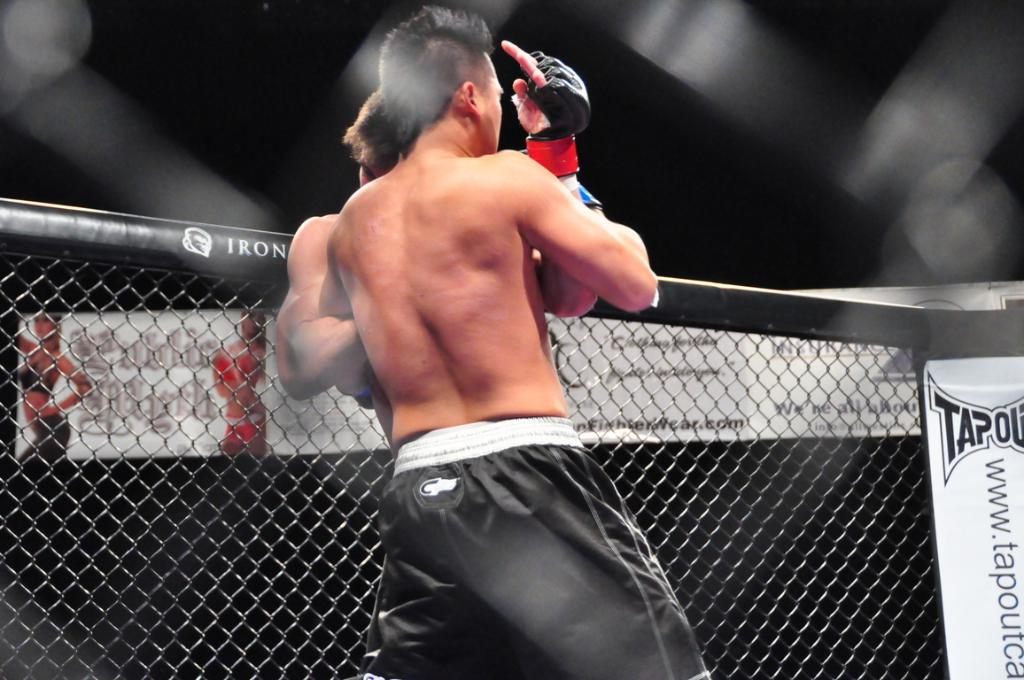Human_hand: (500, 41, 548, 132)
